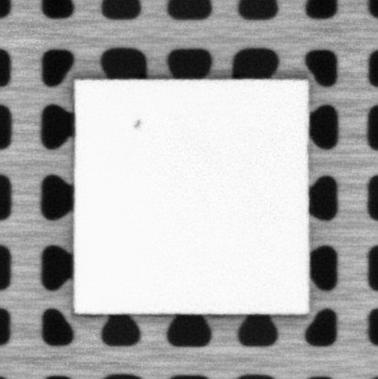DIE_INK: (132, 117, 142, 130)
